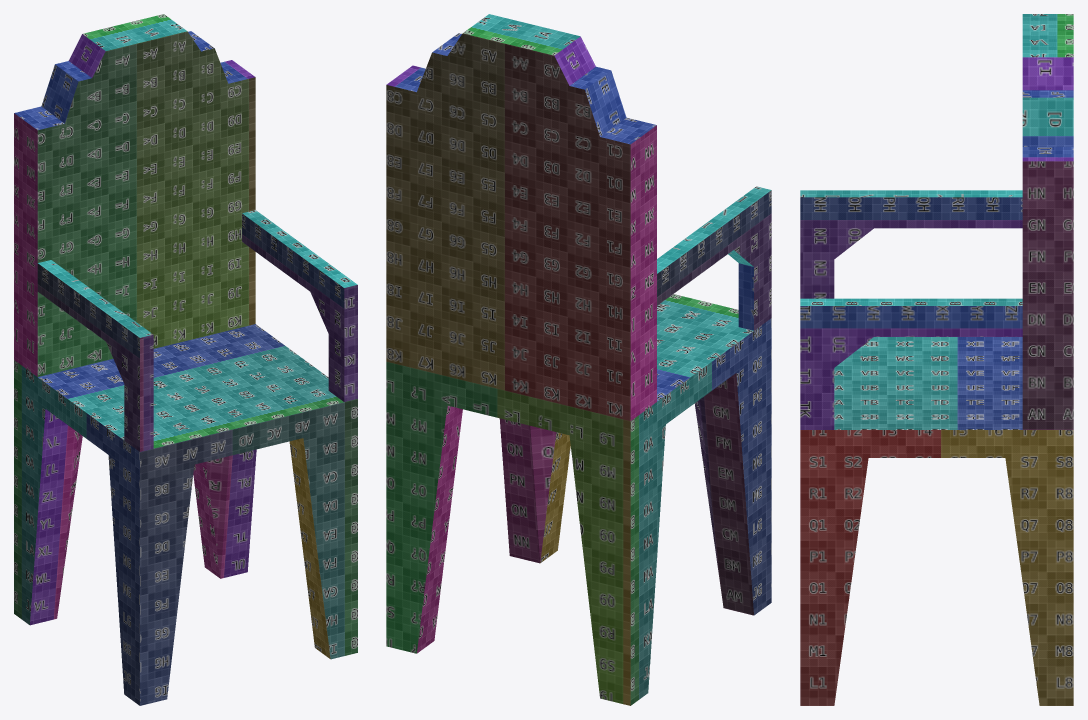
Rendered from chair.obj.
3 views of the same model, side by side, from view 1: azimuth 30°, elevation 25°; view 2: azimuth 150°, elevation 25°; view 3: azimuth 270°, elevation 25° (orthographic). The views are drawn at different scales.
Parts seen in each view (by area): view 1: Plane.003; view 2: Plane.003; view 3: Plane.003.
Part boxes in pixels (left/top/right/bottom): Plane.003: left=14, top=14, right=357, bottom=705; Plane.003: left=386, top=14, right=771, bottom=705; Plane.003: left=800, top=14, right=1073, bottom=705.
Bounding box in the file's own units: 1.4 × 3.46 × 1.4.
